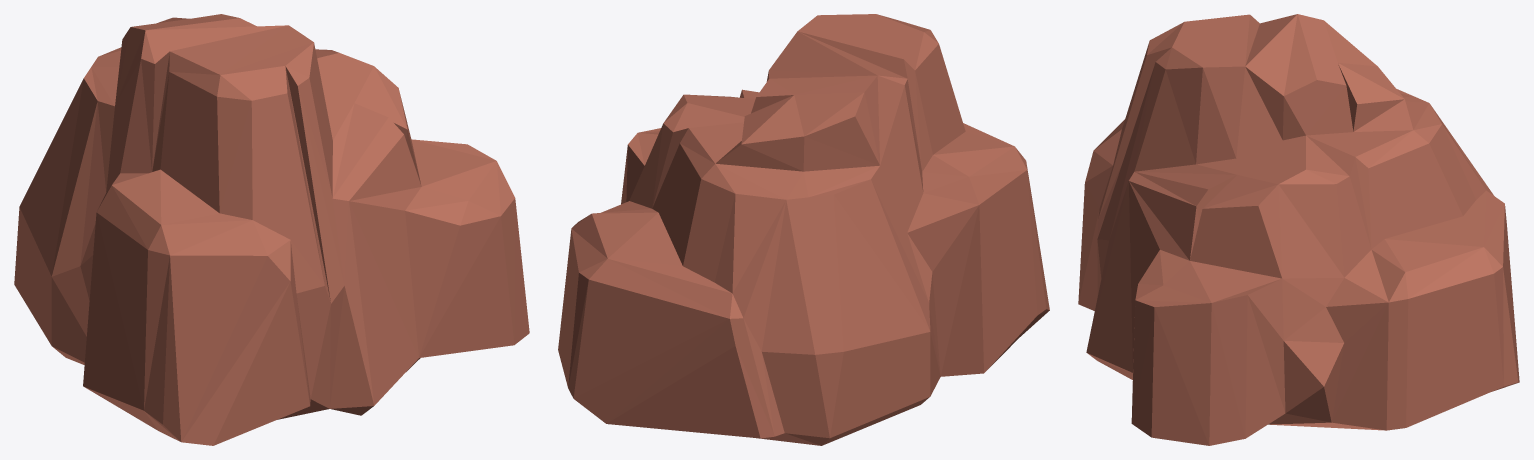
File: rock_002.fbx
3 views of the same model, side by side, from view 1: azimuth 30°, elevation 25°; view 2: azimuth 150°, elevation 25°; view 3: azimuth 270°, elevation 25° (orthographic). The views are drawn at different scales.
Visible parts, largest first — view 1: rock_002; view 2: rock_002; view 3: rock_002.
Boxes of the visible parts, left/top/right/bottom form: rock_002: left=14, top=14, right=529, bottom=445; rock_002: left=558, top=14, right=1049, bottom=445; rock_002: left=1078, top=14, right=1519, bottom=445.
Bounding box in the file's own units: 1218 × 1255 × 942.
